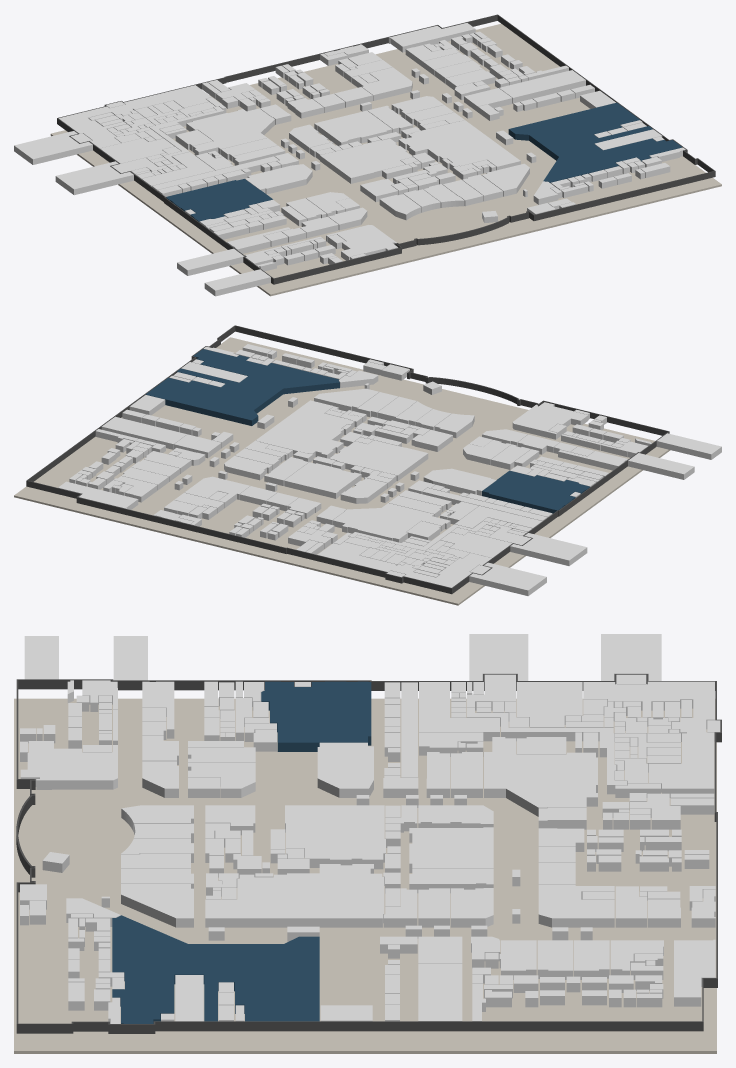
The model's file is example.gltf.
3 views of the same model, one above another, from view 1: azimuth 30°, elevation 25°; view 2: azimuth 150°, elevation 25°; view 3: azimuth 270°, elevation 25° (orthographic). The views are drawn at different scales.
Visible parts, largest first — view 1: Cube, ff_frame, ff_g-35-36-37.001, ff_tr_b.043, ff_g-10.001, ff_tr_g.002, ff_tr_g.001, ff_tr_d.031, ff_g-17.001, ff_g-27.001, ff_tr_b.039, ff_tr_g.003 (+50 smaller); view 2: Cube, ff_frame, ff_g-35-36-37.001, ff_g-10.001, ff_tr_b.043, ff_tr_g.002, ff_tr_g.001, ff_tr_d.031, ff_g-17.001, ff_tr_b.039, ff_tr_g.003, ff_tr_g.004 (+49 smaller); view 3: Cube, ff_g-35-36-37.001, ff_frame, ff_tr_b.043, ff_g-10.001, ff_g-17.001, ff_tr_b.039, ff_tr_g.002, ff_tr_d.031, ff_tr_g.001, ff_g-40.001, ff_tr_g (+67 smaller).
Part boxes in pixels (<box>): Cube: <box>50,23,721,296</box>; ff_frame: <box>57,14,715,284</box>; ff_g-35-36-37.001: <box>508,102,681,182</box>; ff_tr_b.043: <box>59,85,211,148</box>; ff_g-10.001: <box>166,179,272,222</box>; ff_tr_g.002: <box>14,131,92,164</box>; ff_tr_g.001: <box>55,161,133,195</box>; ff_tr_d.031: <box>499,70,585,103</box>; ff_g-17.001: <box>193,119,274,155</box>; ff_g-27.001: <box>388,23,475,52</box>; ff_tr_b.039: <box>100,138,174,163</box>; ff_tr_g.003: <box>177,248,244,275</box>; Cube: <box>14,337,670,605</box>; ff_frame: <box>26,325,669,594</box>; ff_g-35-36-37.001: <box>145,349,339,425</box>; ff_g-10.001: <box>482,470,589,513</box>; ff_tr_b.043: <box>317,542,491,587</box>; ff_tr_g.002: <box>469,562,546,595</box>; ff_tr_g.001: <box>510,533,587,565</box>; ff_tr_d.031: <box>101,416,186,449</box>; ff_g-17.001: <box>347,503,450,531</box>; ff_tr_b.039: <box>440,532,512,557</box>; ff_tr_g.003: <box>628,453,694,479</box>; ff_tr_g.004: <box>656,433,721,459</box>; Cube: <box>14,698,716,1053</box>; ff_g-35-36-37.001: <box>112,915,319,1023</box>; ff_frame: <box>16,674,721,1033</box>; ff_tr_b.043: <box>583,681,714,797</box>; ff_g-10.001: <box>261,681,371,751</box>; ff_g-17.001: <box>484,737,538,816</box>; ff_tr_b.039: <box>516,682,582,727</box>; ff_tr_g.002: <box>601,634,661,680</box>; ff_tr_d.031: <box>418,964,462,1021</box>; ff_tr_g.001: <box>469,634,528,680</box>; ff_g-40.001: <box>121,884,193,927</box>; ff_tr_g: <box>419,682,499,741</box>.
Bounding box in the file's own units: 3.61 × 0.1084 × 2.74.
